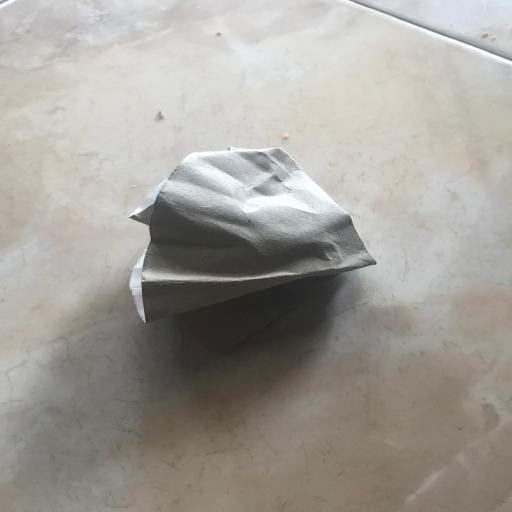waste: (115, 140, 380, 318)
